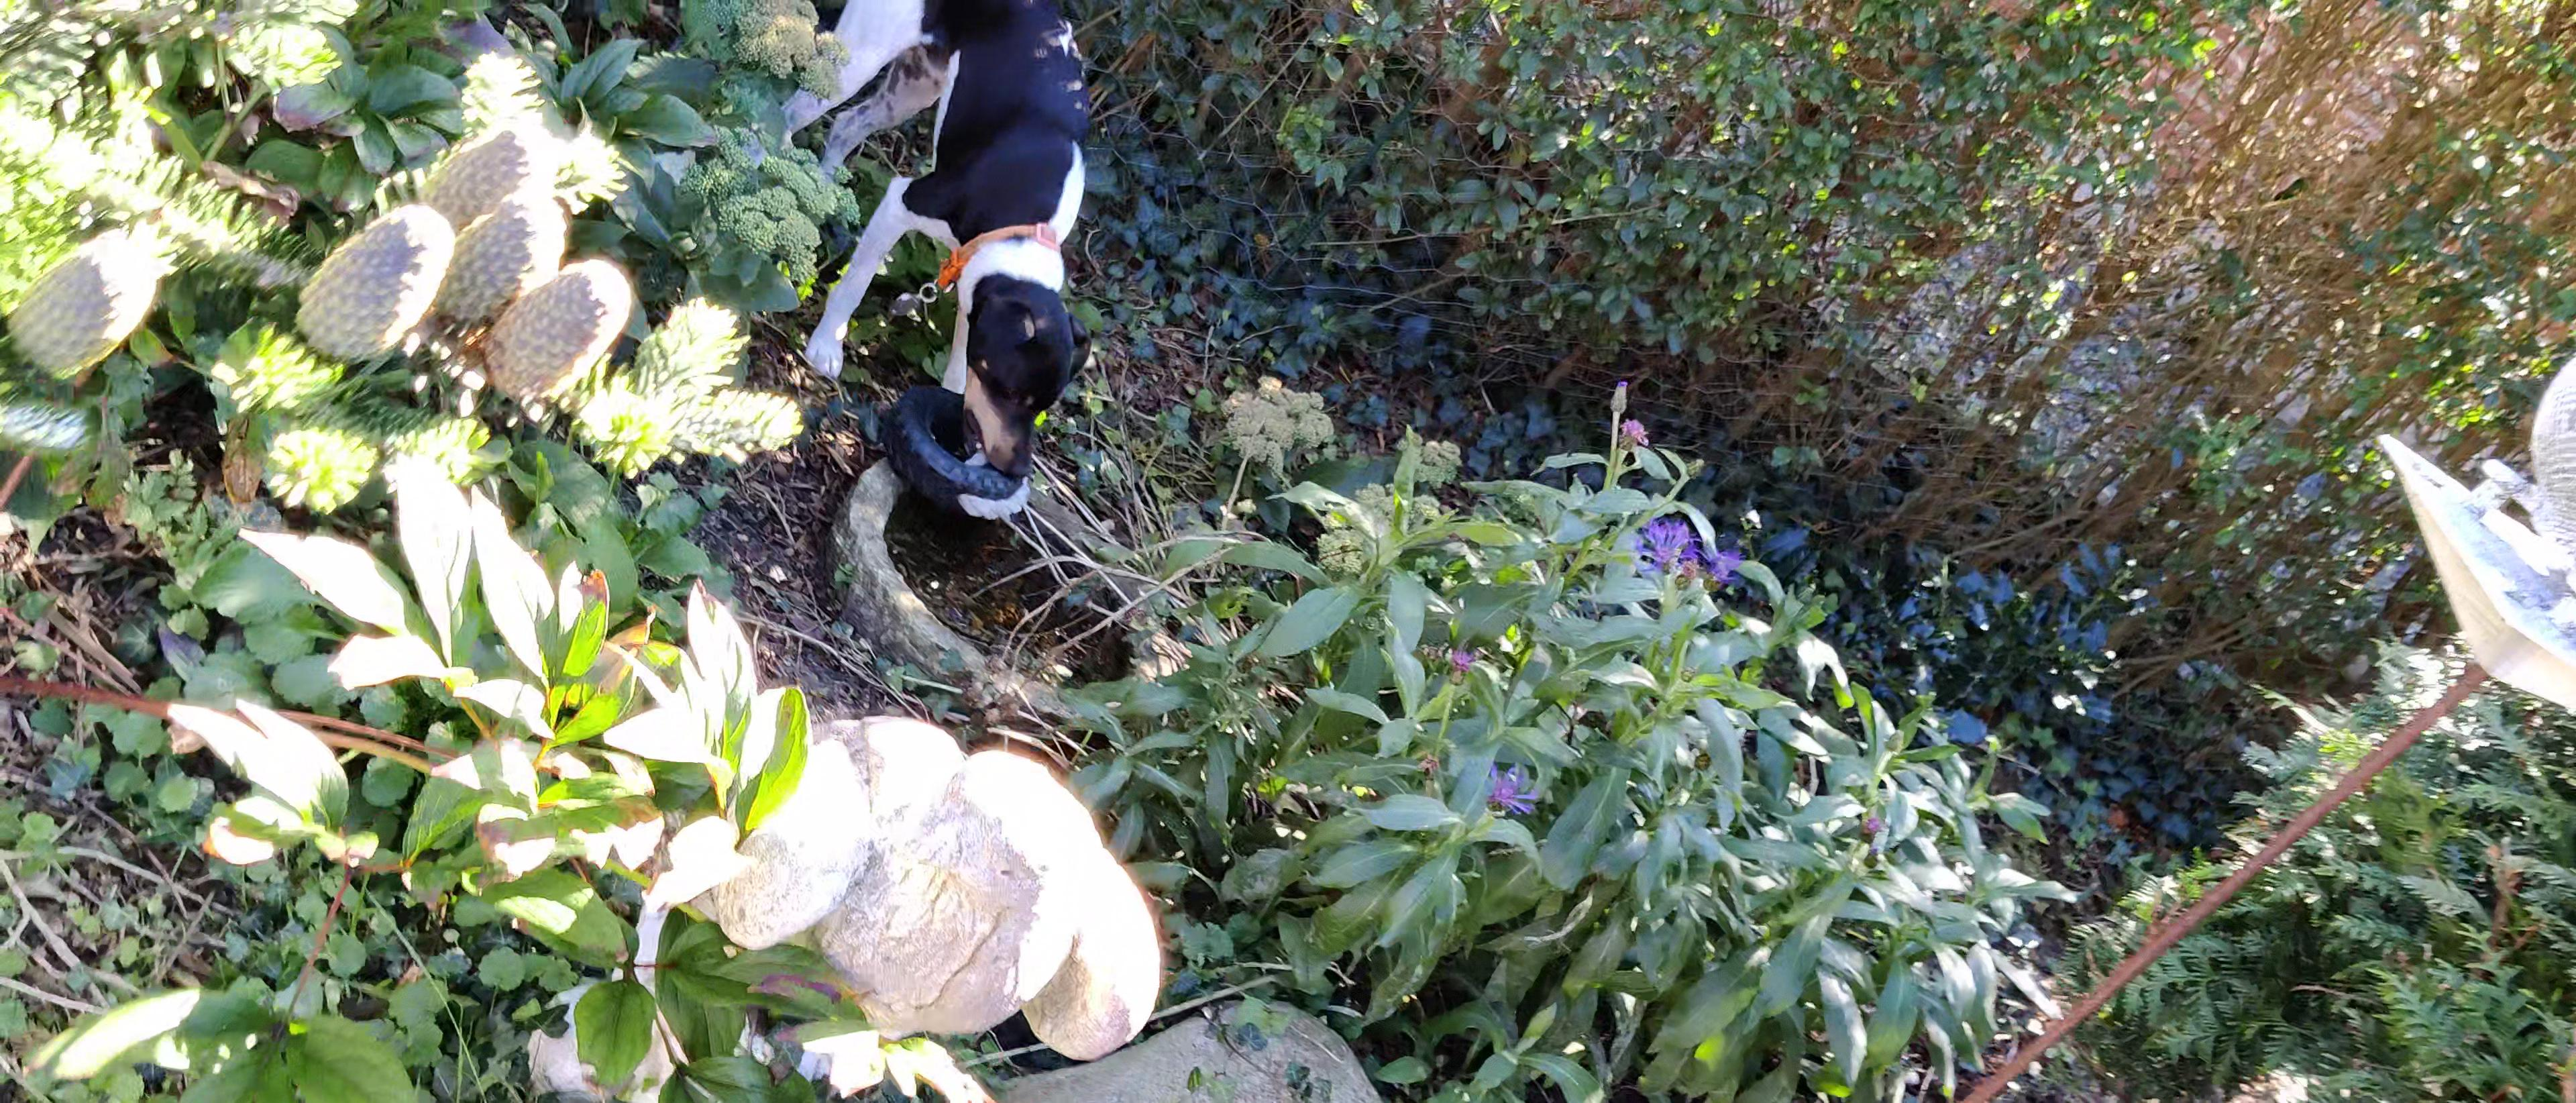Dog: (744, 0, 1094, 485)
